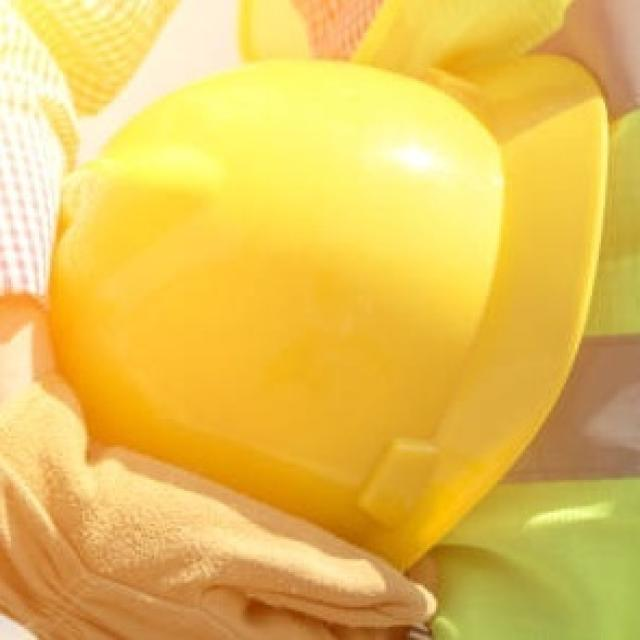safety_helmet: (2, 0, 633, 640), (43, 3, 611, 578)
